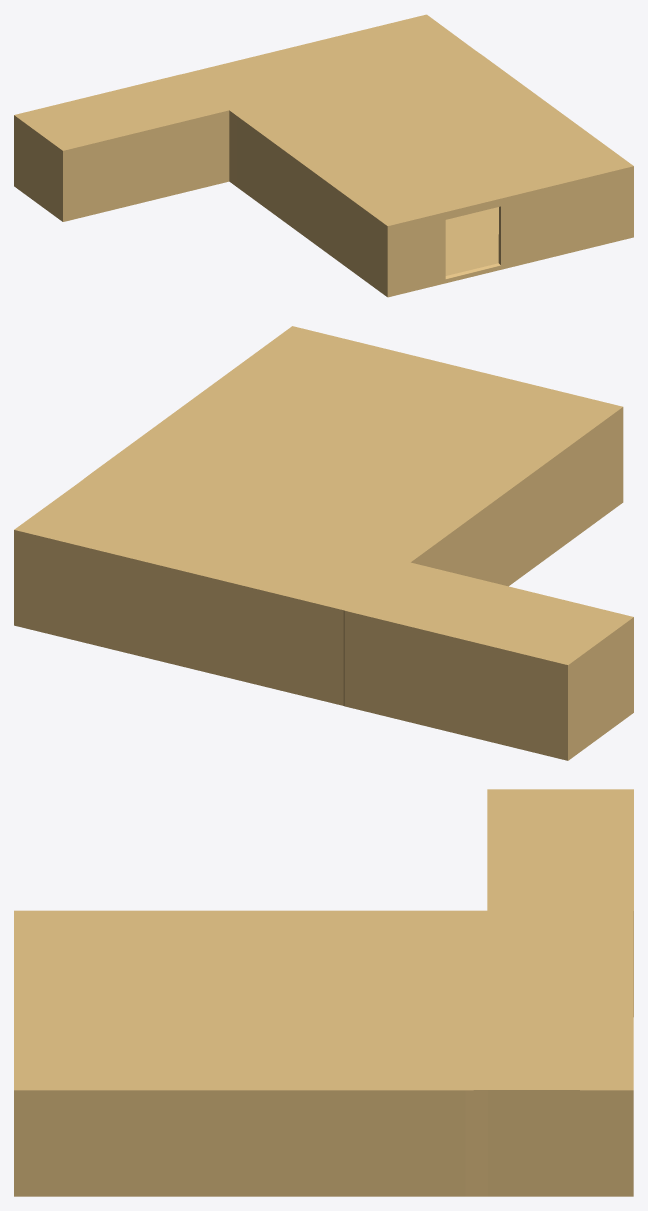
The model's file is RestaurantInterior.fbx.
The picture shows the model from 3 angles, top to bottom: view 1: azimuth 30°, elevation 25°; view 2: azimuth 150°, elevation 25°; view 3: azimuth 270°, elevation 25°; orthographic projection. The views are drawn at different scales.
Parts seen in each view (by area): view 1: Layout; view 2: Layout; view 3: Layout.
Part boxes in pixels (x1,y1,x2,y2): Layout: (14,14,633,297); Layout: (14,326,633,760); Layout: (14,789,633,1196).
Bounding box in the file's own units: 1262 × 208 × 1099.
